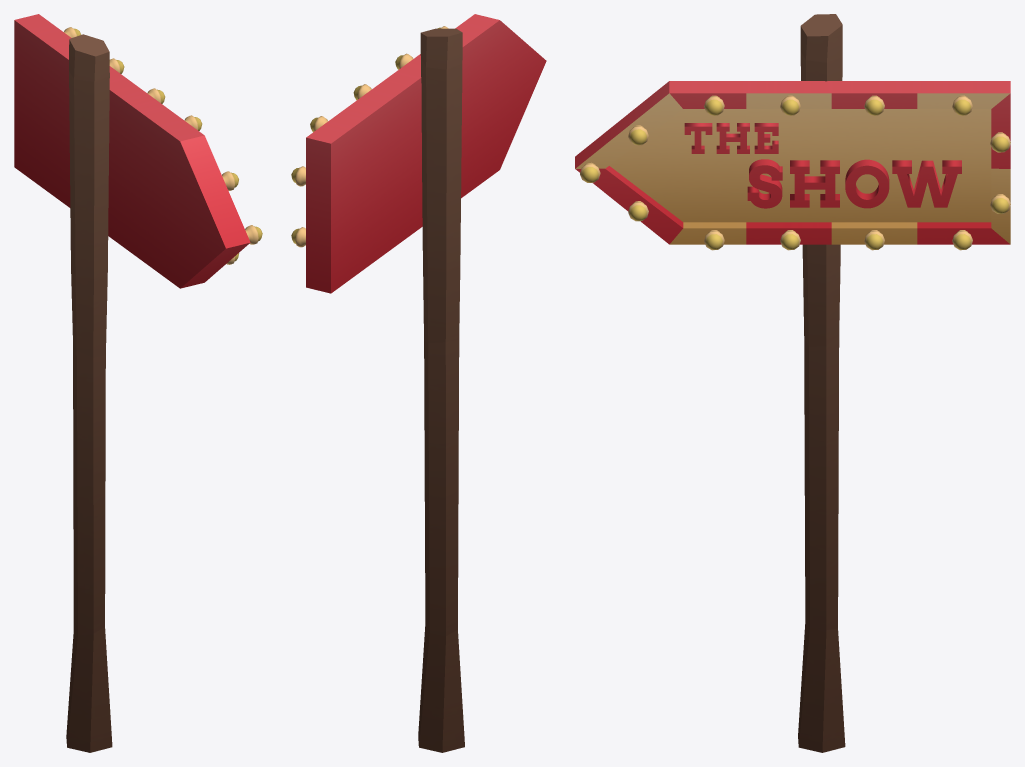
Rendered from the_show_left_stick.fbx.
The picture shows the model from 3 angles, left to right: view 1: azimuth 30°, elevation 25°; view 2: azimuth 150°, elevation 25°; view 3: azimuth 270°, elevation 25°; orthographic projection. The views are drawn at different scales.
Parts seen in each view (by area): view 1: the_show_left_stick; view 2: the_show_left_stick; view 3: the_show_left_stick.
Boxes of the visible parts, left/top/right/bottom form: the_show_left_stick: left=14, top=14, right=262, bottom=752; the_show_left_stick: left=291, top=14, right=546, bottom=752; the_show_left_stick: left=575, top=14, right=1010, bottom=752.
Bounding box in the file's own units: 30.69 × 249 × 137.
